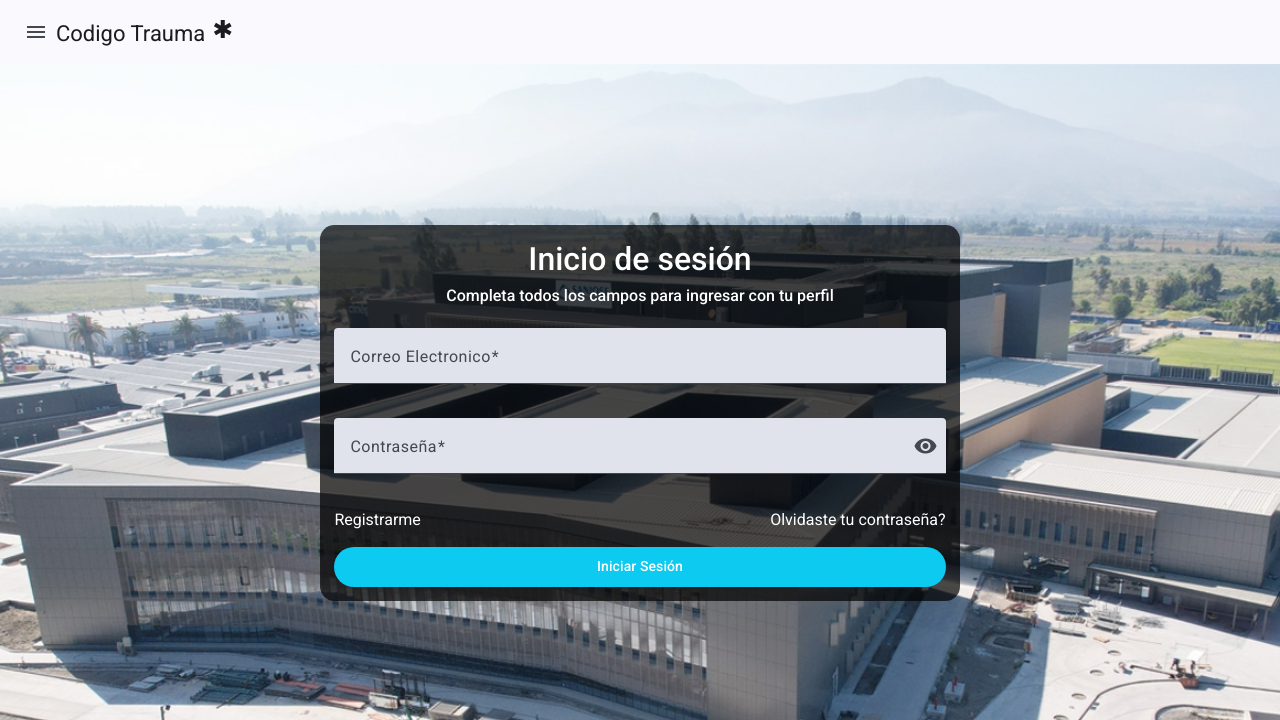
Test: Login › Go to forget password
Expected: the heading "Inicio de sesión" is shown, [528,240,752,278]
Step 1. Click the link with id "gforgetpassword" → (858, 520), box [770,508,946,532]
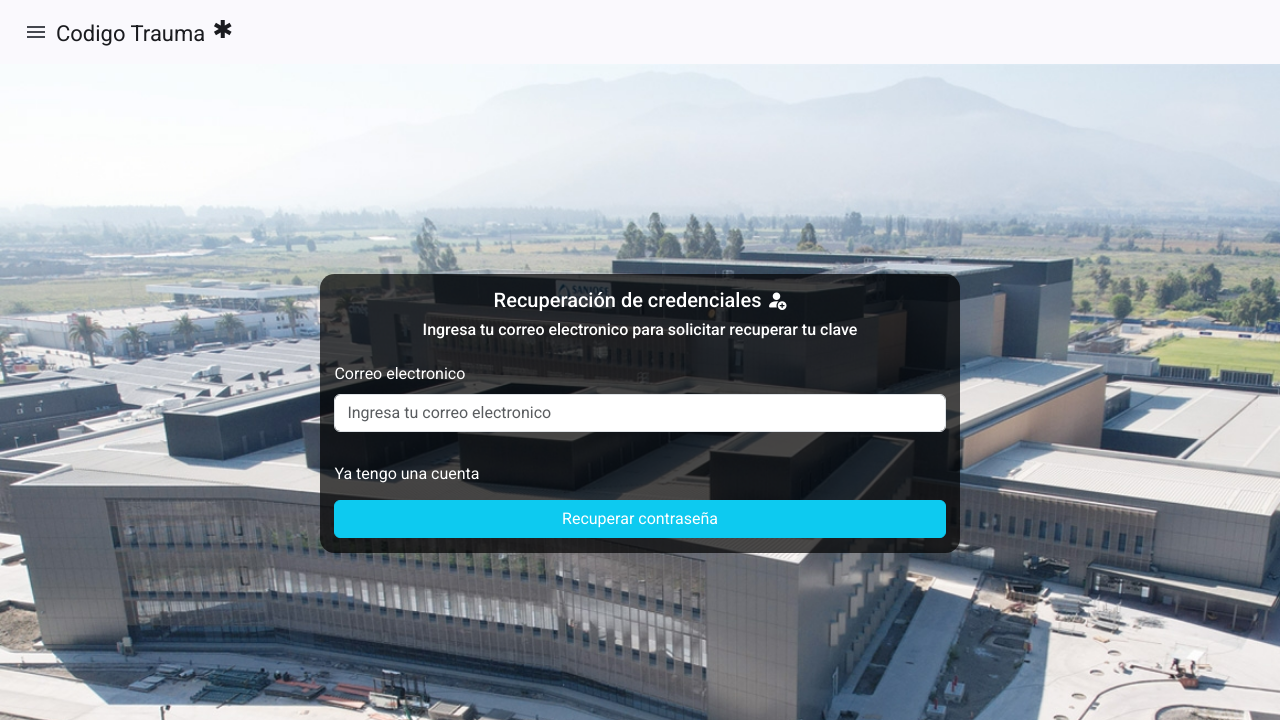
Expected: the heading "Ingresa tu correo electronico para solicitar recuperar tu clave" is shown, [423,320,857,339]
